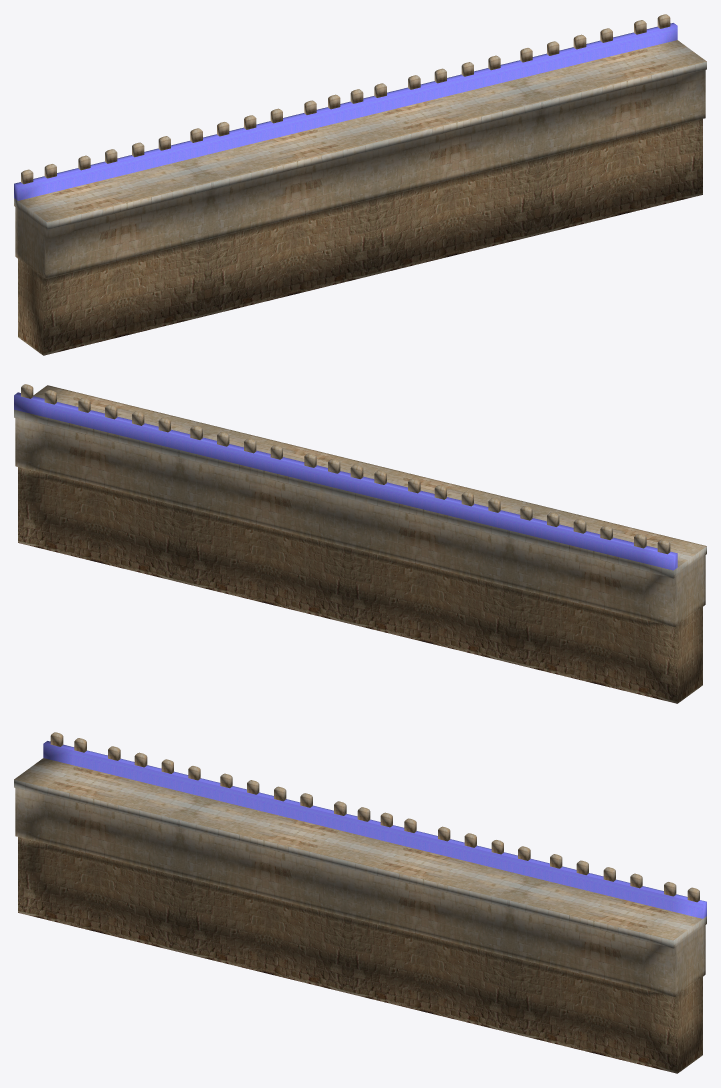
File: wall_large.gltf
3 views of the same model, one above another, from view 1: azimuth 30°, elevation 25°; view 2: azimuth 150°, elevation 25°; view 3: azimuth 330°, elevation 25° (orthographic).
Parts seen in each view (by area): view 1: wall_large; view 2: wall_large; view 3: wall_large.
Part boxes in pixels (x1=…): wall_large: x1=14, y1=14, x2=706, y2=355; wall_large: x1=14, y1=384, x2=706, y2=703; wall_large: x1=14, y1=732, x2=706, y2=1073.
Size of the model in its own units: 11.09 by 2.61 by 0.9738.
2 materials, 2 textured.
